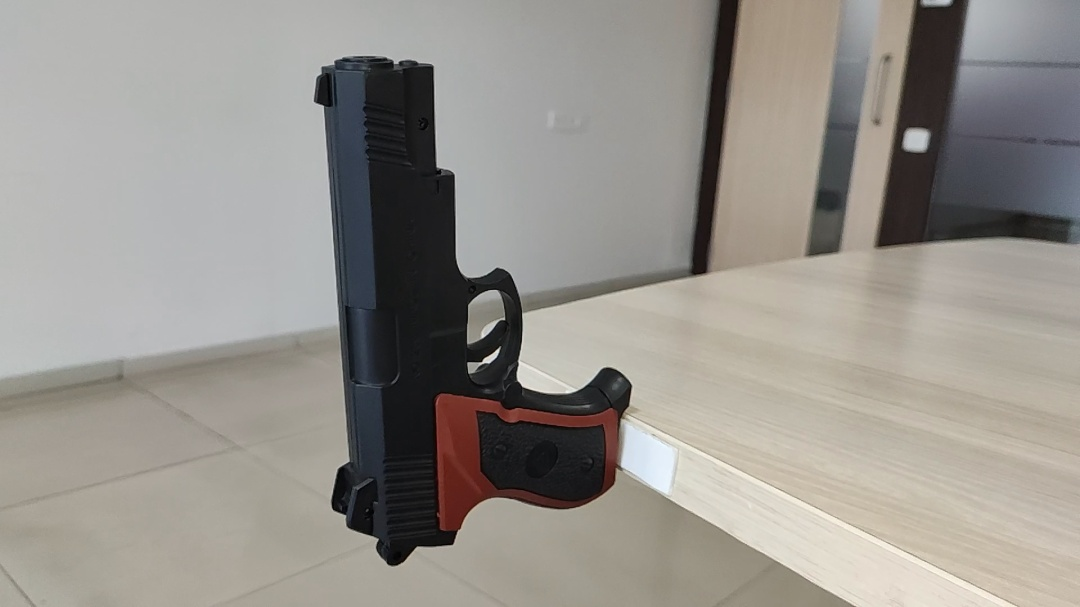gun: (311, 55, 635, 566)
